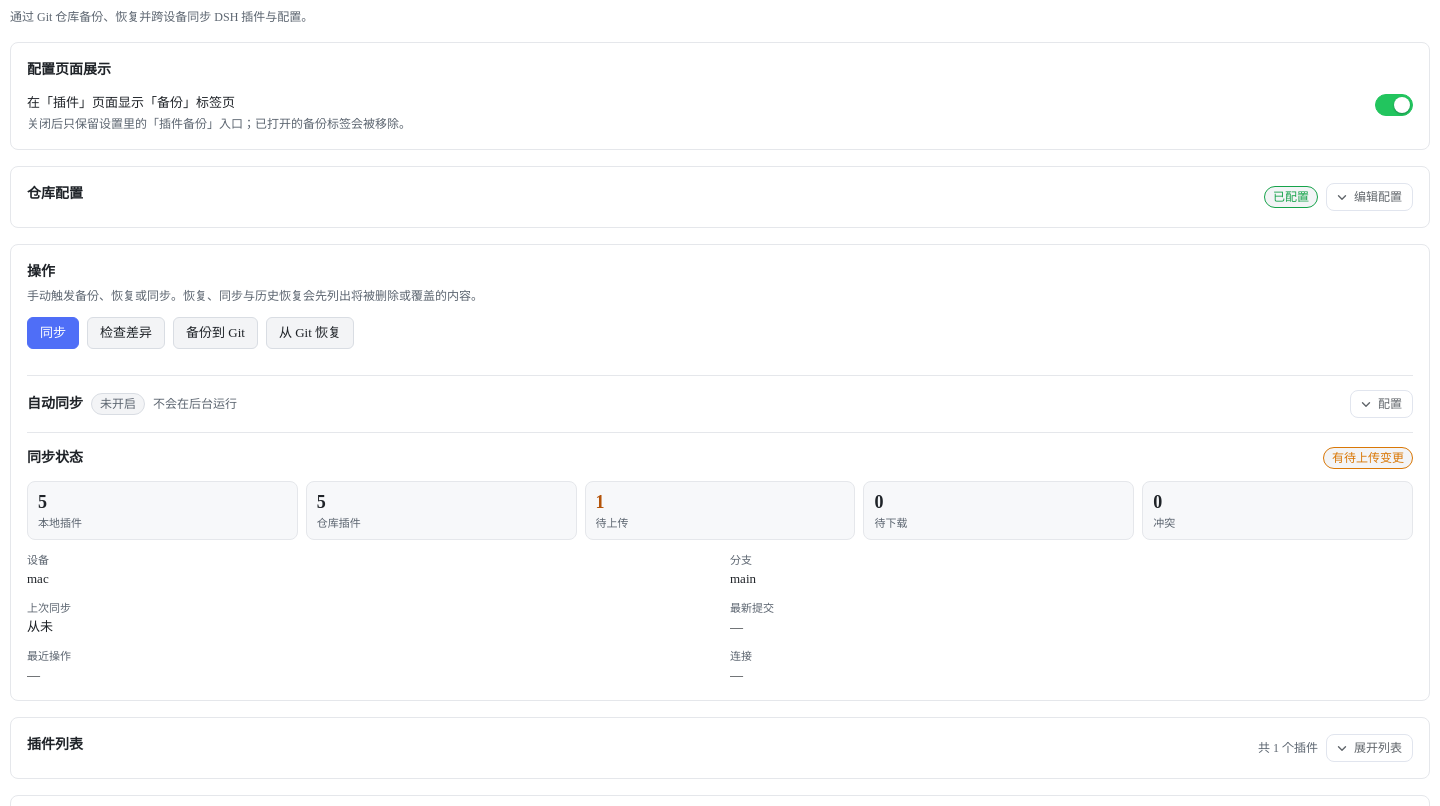
Scenario: settings page render › renders diff results inside the operations card, not in a global area
The width and height of the screenshot is (1440, 806).
Click the button "检查差异" at (126, 333), box [87,317,165,349]
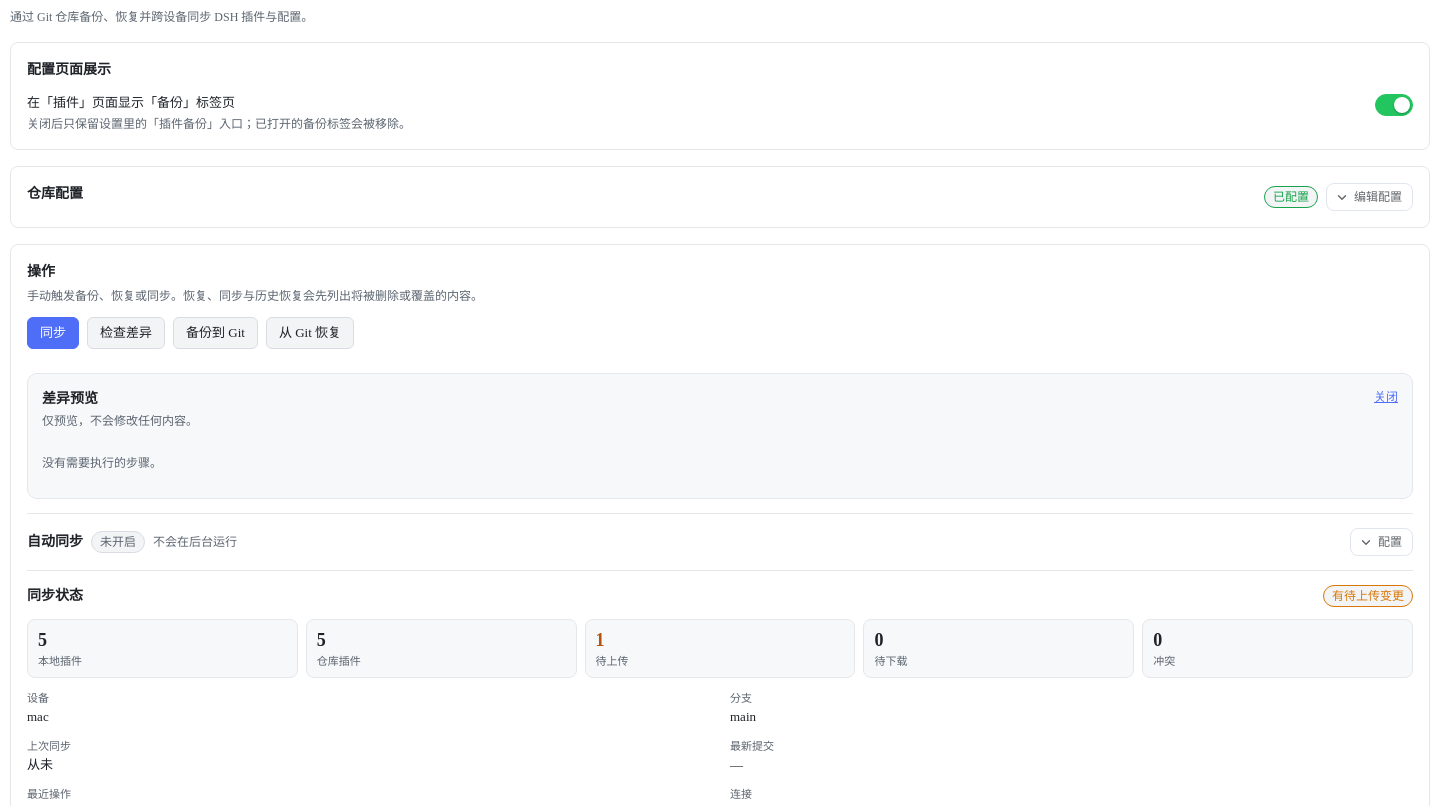
Expected: the element with class "dgs-actionsMain" is shown, [27,317,354,349]
Result: the element with class "dgs-diffPanel" is shown at [27,373,1413,499]
